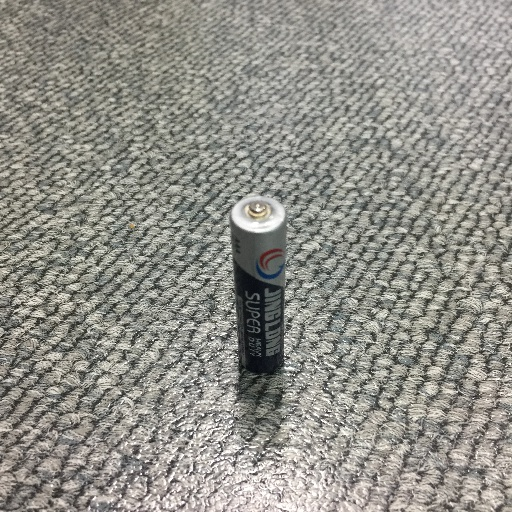Battery_0: (220, 188, 296, 382)
